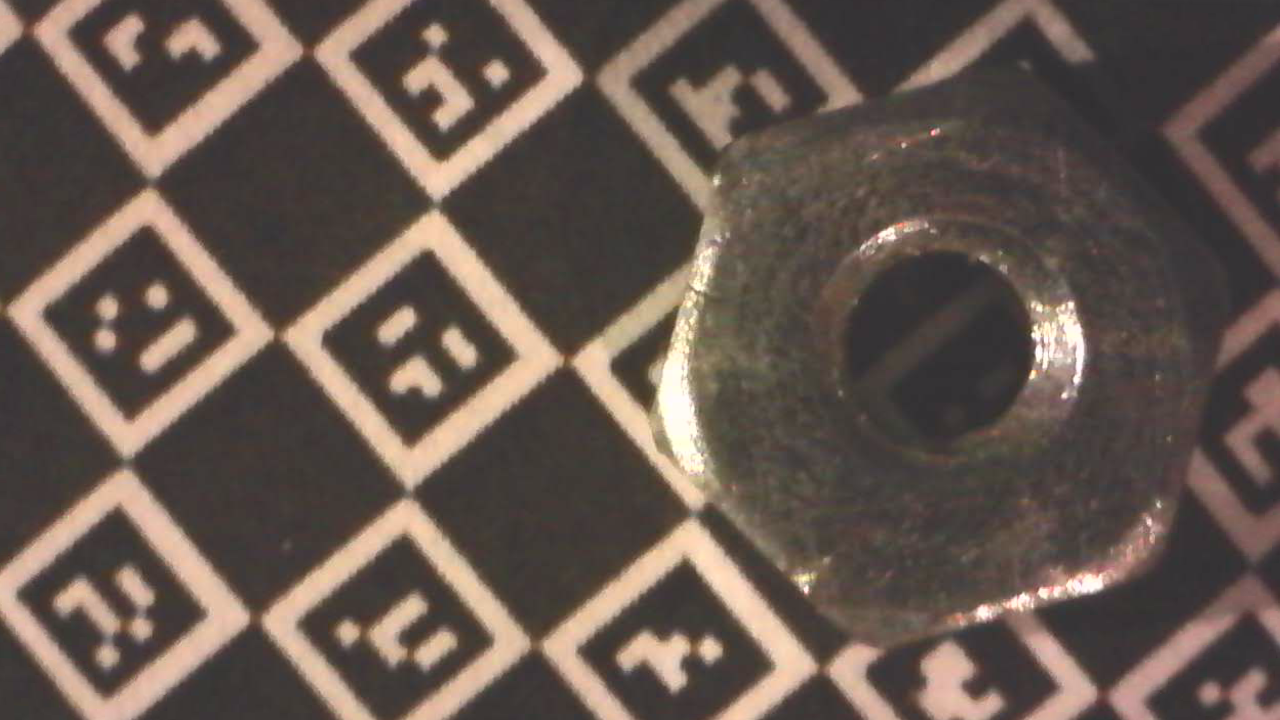Bolt: (653, 62, 1229, 655)
